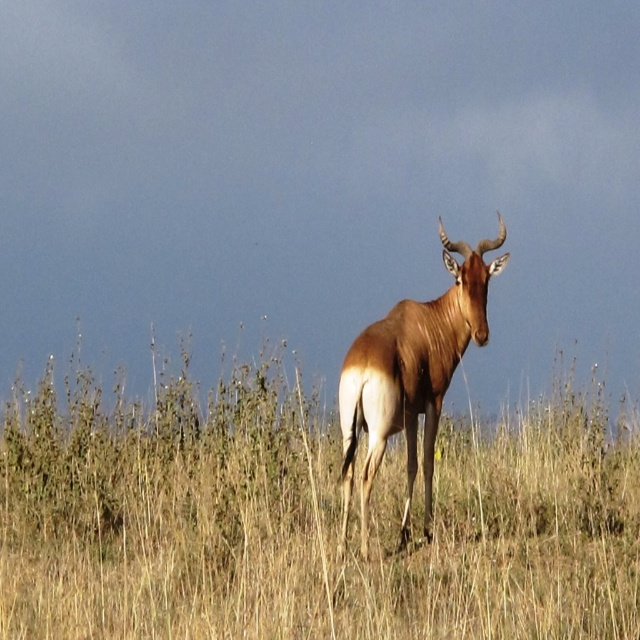Deer: (335, 210, 511, 564)
